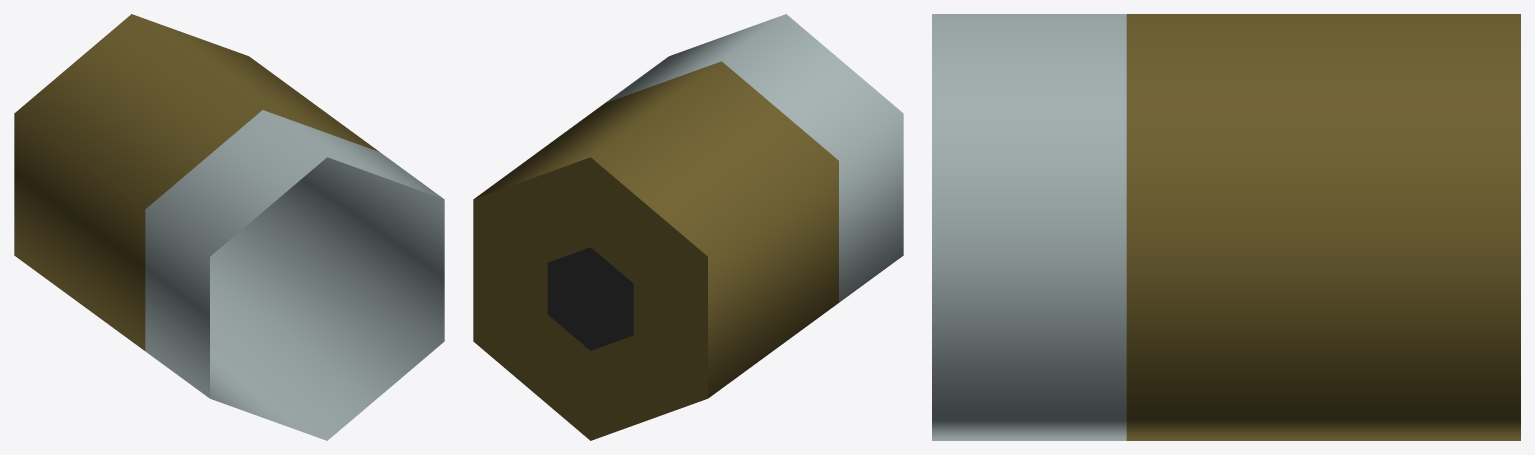
Rendered from FxEmpty40mm.FBX.
3 renders of one model, left to right at view 1: azimuth 30°, elevation 25°; view 2: azimuth 150°, elevation 25°; view 3: azimuth 270°, elevation 25°, orthographic. The views are drawn at different scales.
Visible parts, largest first — view 1: FxEmpty40mm; view 2: FxEmpty40mm; view 3: FxEmpty40mm.
Boxes of the visible parts, left/top/right/bottom form: FxEmpty40mm: left=14, top=14, right=444, bottom=440; FxEmpty40mm: left=473, top=14, right=903, bottom=440; FxEmpty40mm: left=932, top=14, right=1520, bottom=440.
Bounding box in the file's own units: 3.65 × 4.21 × 5.26.
